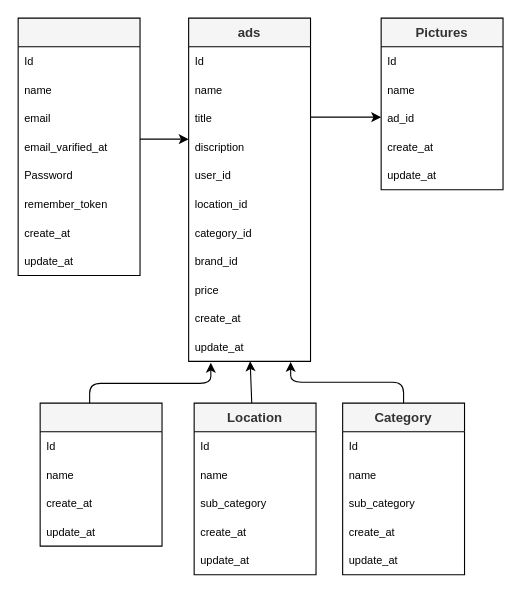
Image size: 521x593. Some labels were removed from this diagram. Each missing label, with the box of its shape:
Brands: (39, 402, 162, 546)
User: (17, 17, 140, 276)
